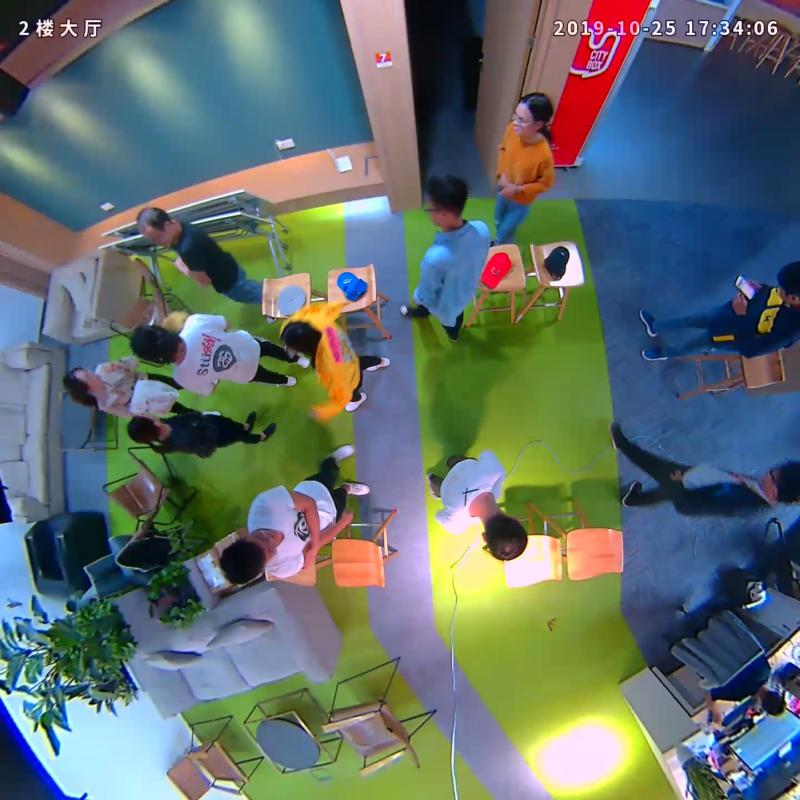head: (217, 527, 279, 586), (481, 509, 528, 561), (424, 173, 468, 224), (510, 92, 554, 138), (129, 323, 176, 364), (761, 460, 800, 506), (135, 206, 175, 249), (278, 320, 316, 356), (125, 416, 161, 444), (62, 366, 101, 389)
